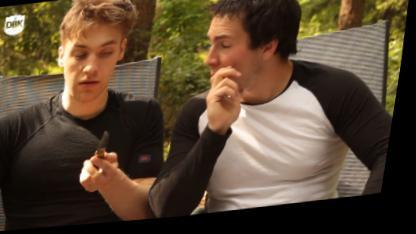knife: (77, 121, 132, 188)
